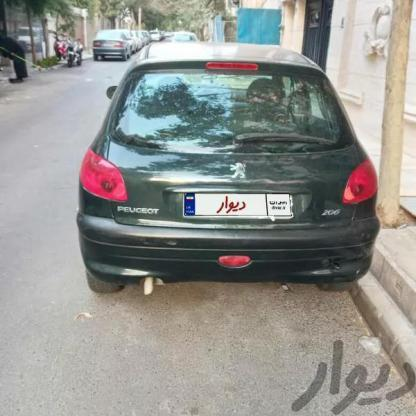Car: (72, 44, 381, 315), (95, 29, 139, 58)
